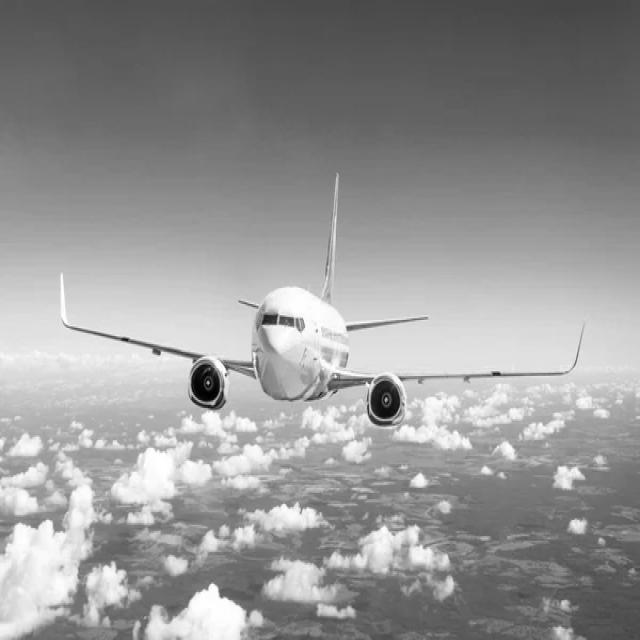Aircraft: (50, 170, 590, 426)
